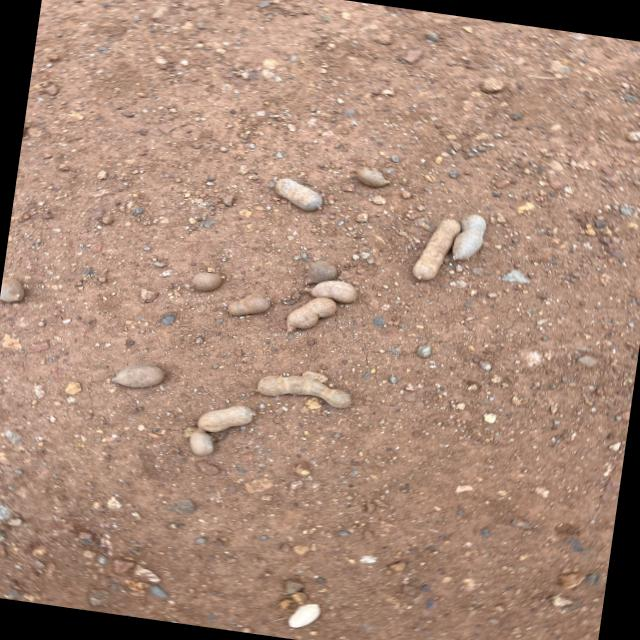tamarind: (255, 369, 356, 411), (412, 215, 462, 286), (280, 292, 338, 338), (196, 398, 258, 439), (272, 177, 329, 215), (110, 359, 166, 393), (454, 213, 488, 266), (224, 290, 272, 322), (310, 278, 358, 305), (187, 270, 224, 296), (188, 428, 216, 457), (469, 214, 479, 221)
